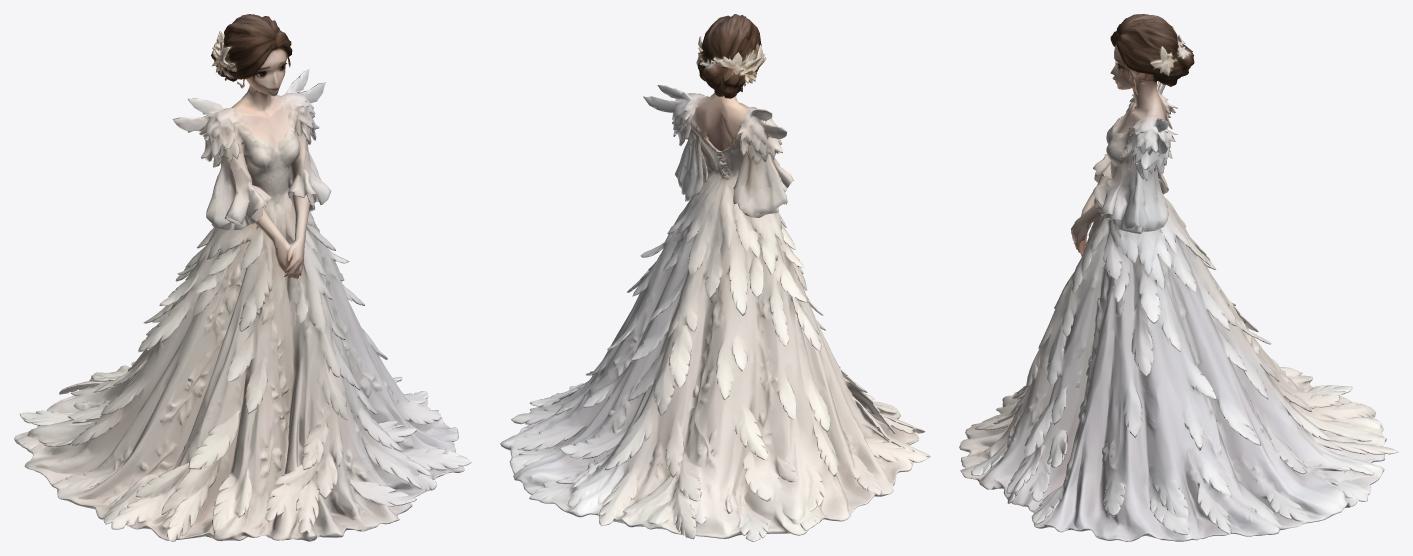
The model's file is wedding-dress.glb.
3 views of the same model, side by side, from view 1: azimuth 30°, elevation 25°; view 2: azimuth 150°, elevation 25°; view 3: azimuth 270°, elevation 25° (orthographic). The views are drawn at different scales.
Visible parts, largest first — view 1: tripo_node_35d5c6ff-0940-4e7e-a0cc-be5d2045b19e; view 2: tripo_node_35d5c6ff-0940-4e7e-a0cc-be5d2045b19e; view 3: tripo_node_35d5c6ff-0940-4e7e-a0cc-be5d2045b19e.
Part boxes in pixels (box(x1,y1,x2,y2)): tripo_node_35d5c6ff-0940-4e7e-a0cc-be5d2045b19e: box(14, 14, 471, 541); tripo_node_35d5c6ff-0940-4e7e-a0cc-be5d2045b19e: box(500, 14, 930, 541); tripo_node_35d5c6ff-0940-4e7e-a0cc-be5d2045b19e: box(959, 14, 1398, 541).
Bounding box in the file's own units: 0.8538 × 0.9822 × 0.8894.
1 material, 1 textured.
